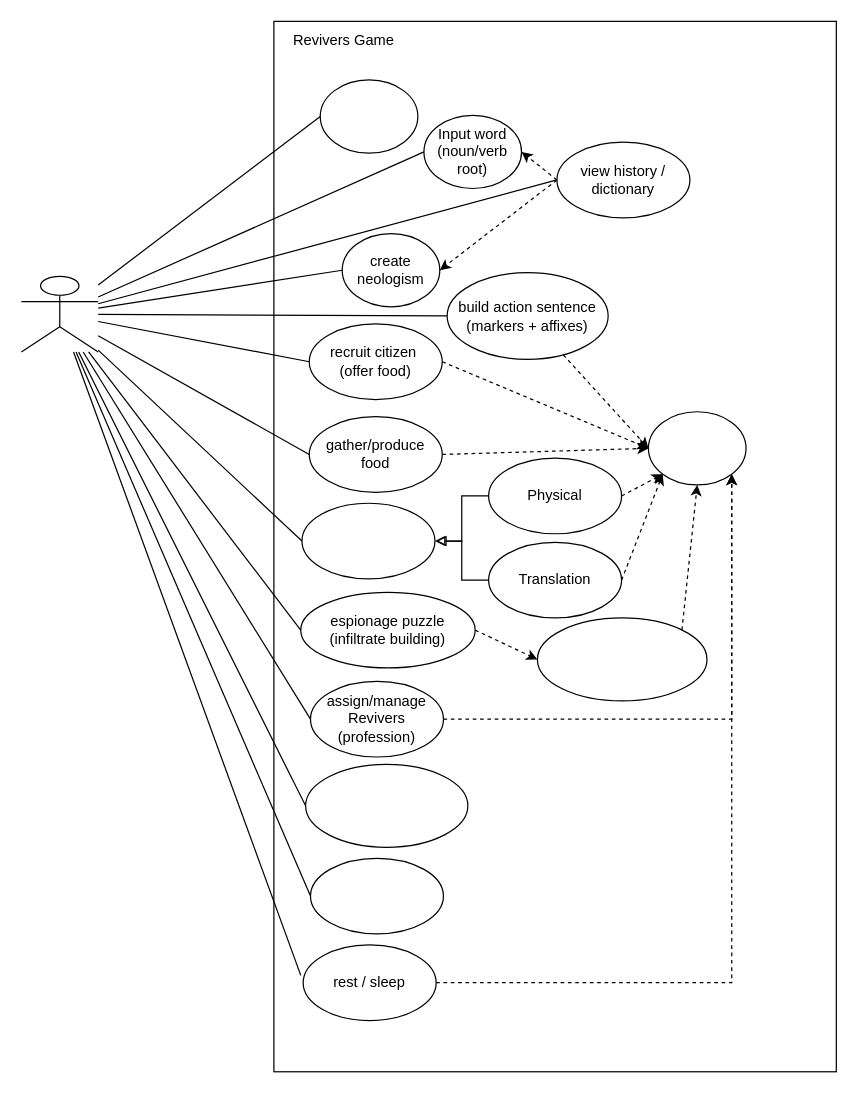
Image size: 858x1093. Some labels were removed from this diagram. The shapes that lost their labels are listed below. From the top down, each one's centre as x and y in pixels, then its label:
pixel 368 116: start a game/continue
pixel 696 448: execute turn
pixel 368 540: engage combat
pixel 621 659: reclaim building/ convert neighbours
pixel 386 805: manage resources (food/hunger/mana)
pixel 376 895: save / load game
